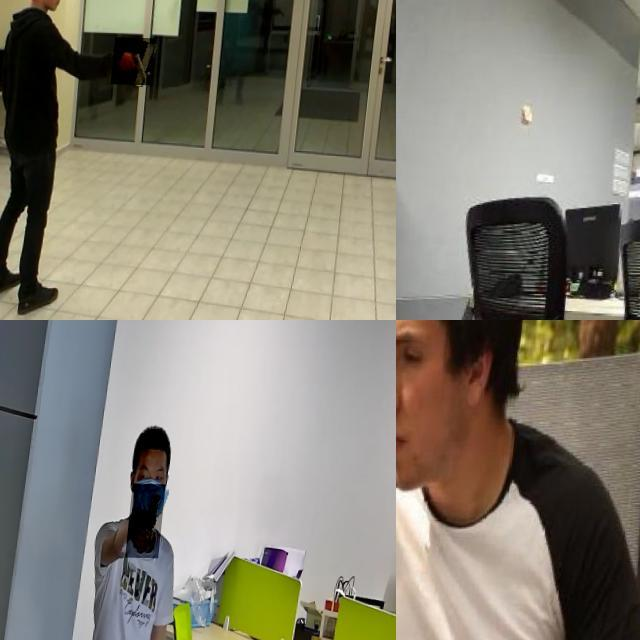-: (396, 562, 447, 640), (396, 251, 416, 294)
gun-knife-thesis - v11 Yolov5 augmented: (132, 481, 170, 556), (119, 36, 163, 84)
